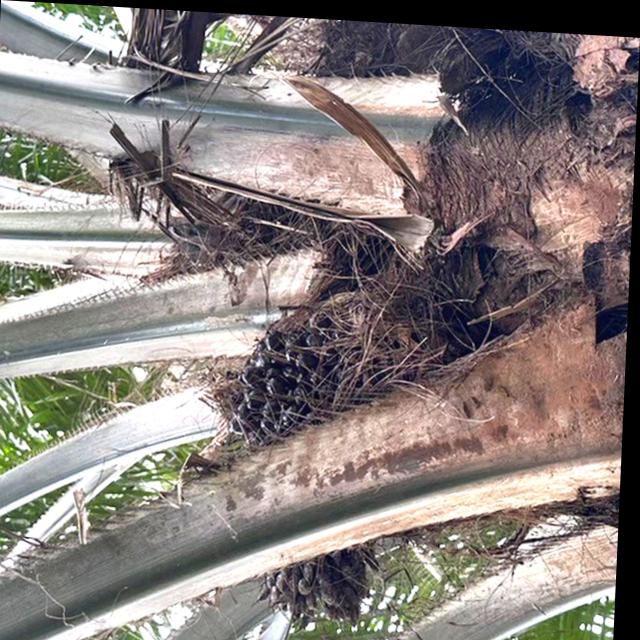almost: (221, 258, 439, 451), (257, 530, 383, 636)
